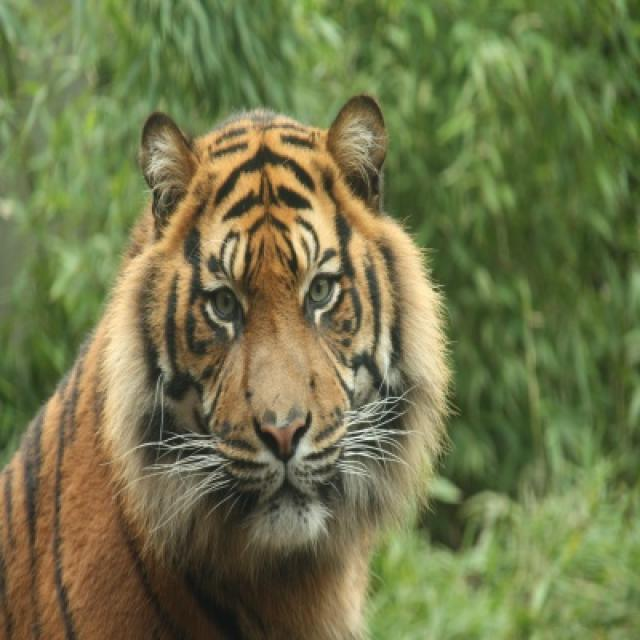Tiger: (0, 88, 457, 638)
